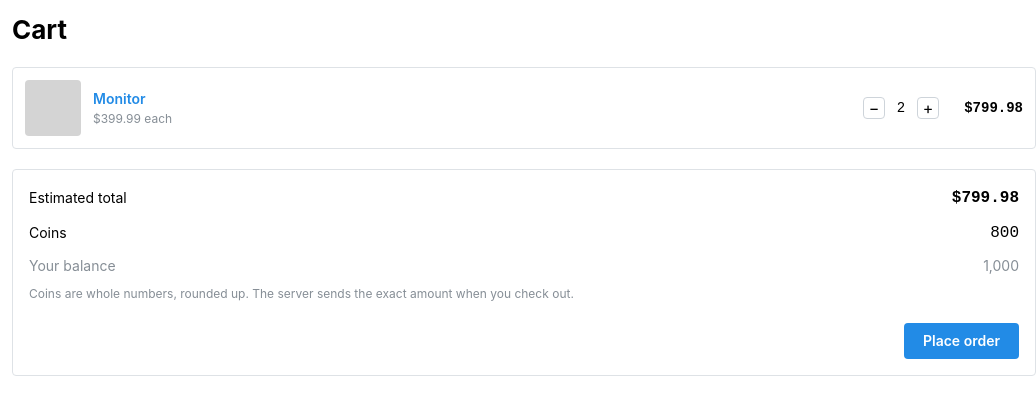
Test: CartPage › sends the new quantity, not a difference
Click the button named "Add one Monitor" at x=928, y=108, box [917, 97, 939, 119]
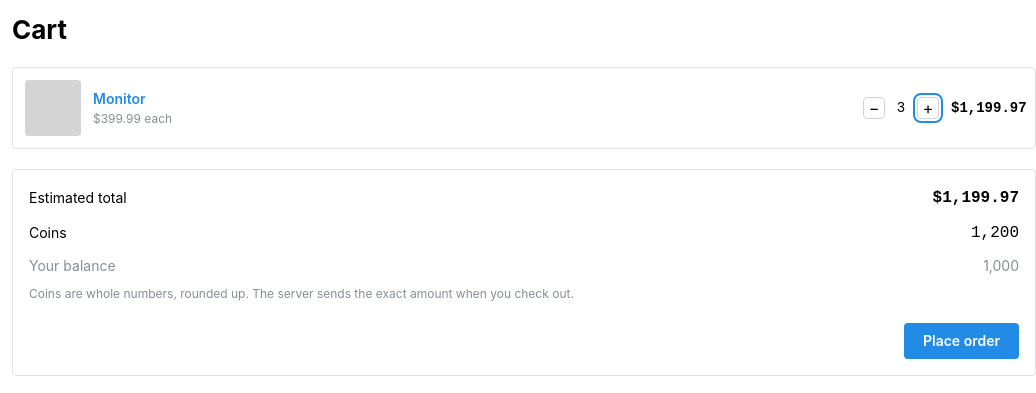
Expected: the text "3" is shown, [897, 100, 905, 116]
